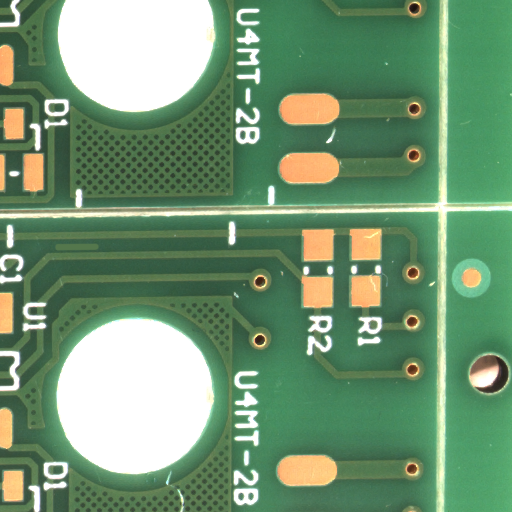Spurious_copper: (76, 247, 122, 257)
